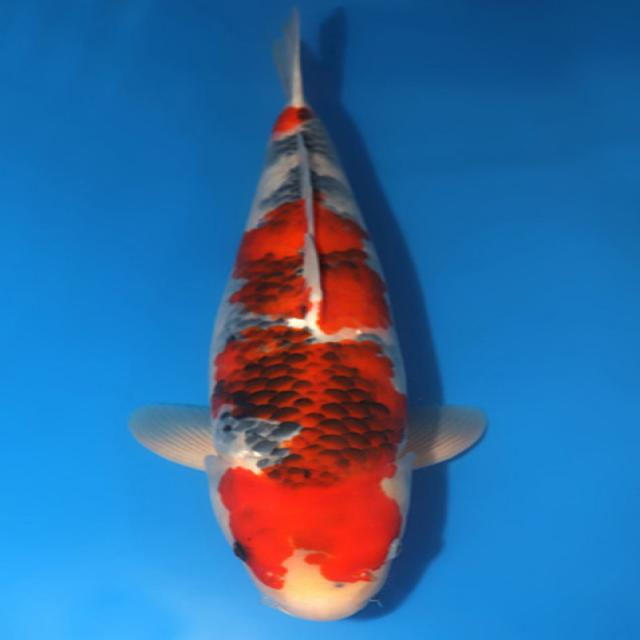Showa: (126, 7, 487, 622)
